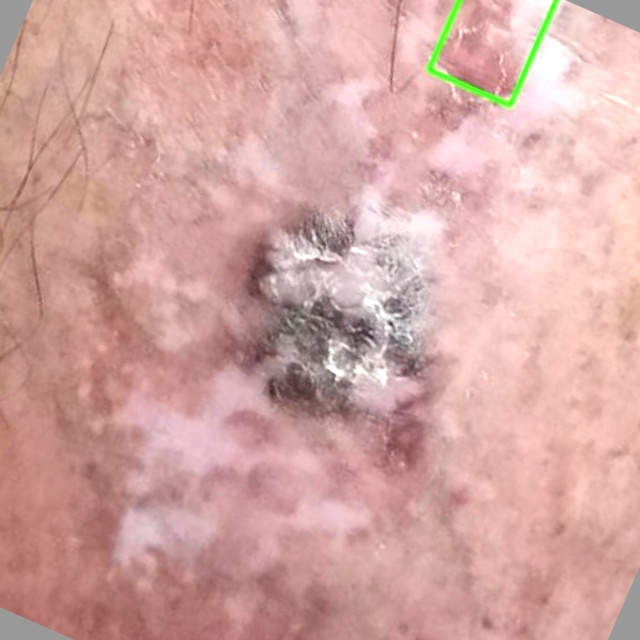Eczema: (429, 0, 556, 105)
